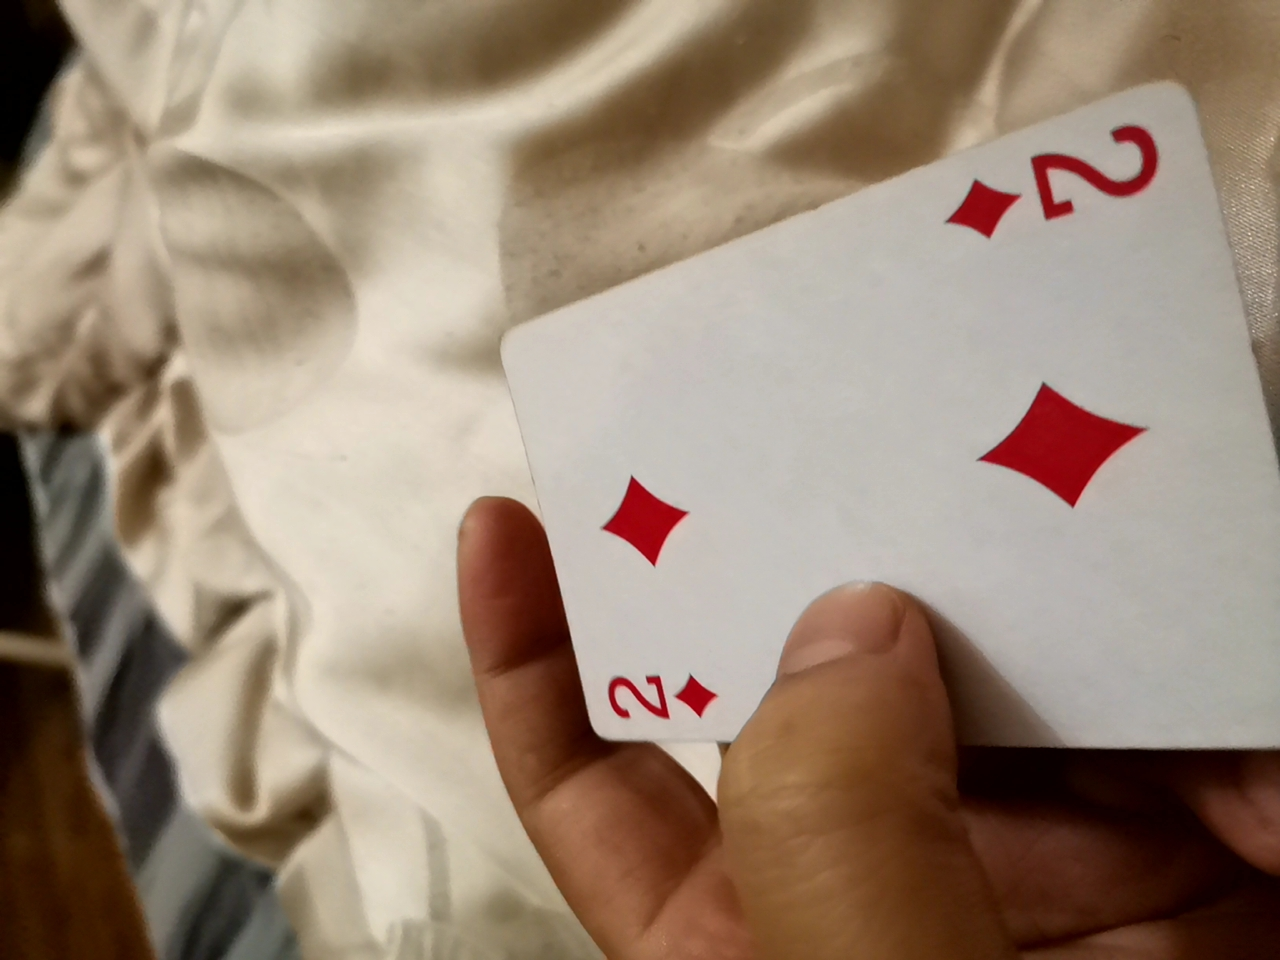fk 2: (433, 98, 1262, 807)
